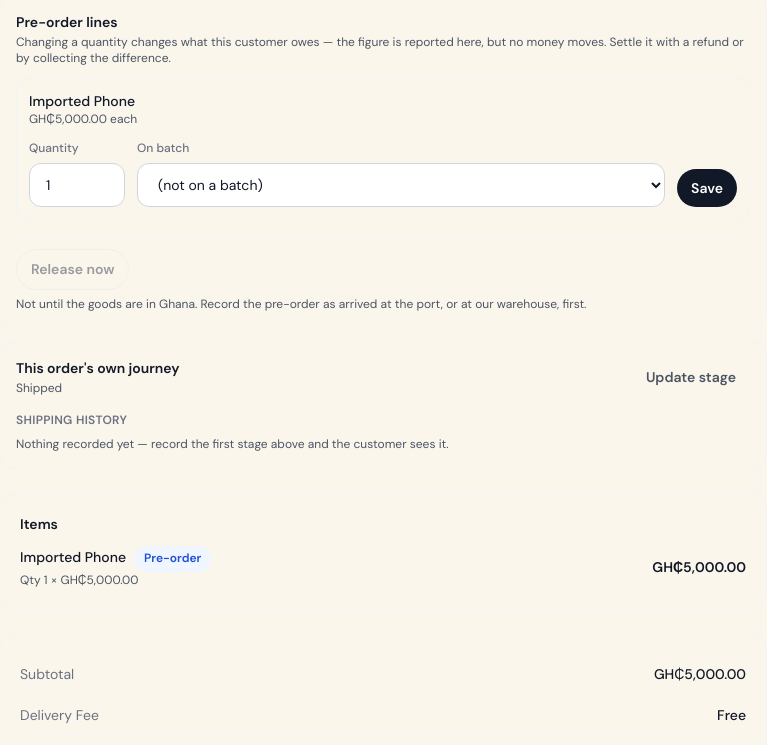
Test case: Staff order detail — the last stage releases (T45) › warns before the stage that releases
(page scrolled)
Click the button "Update stage" at x=691, y=377, box [632, 358, 750, 396]
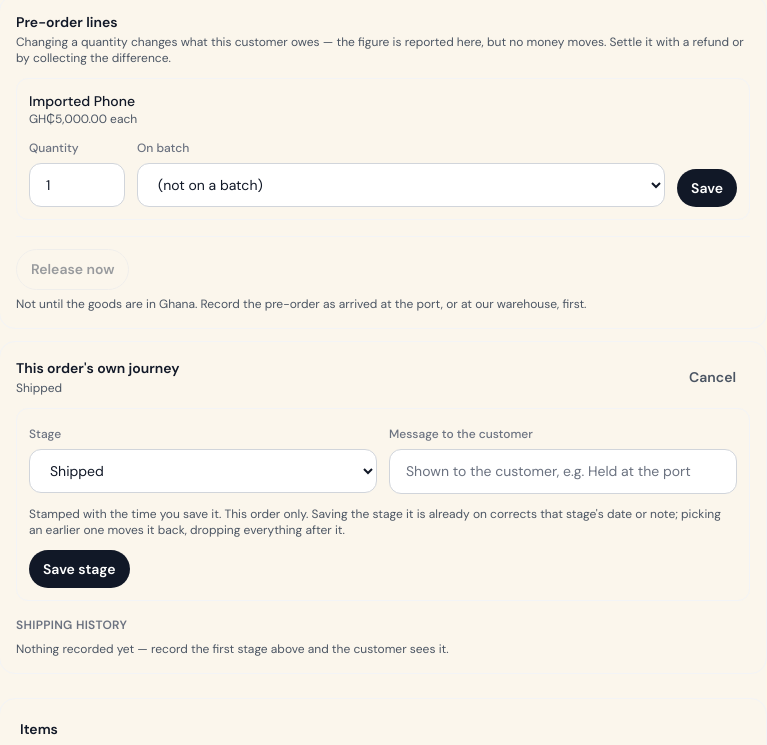
Expected: the text "Saving this releases the order" is not shown
Select "Arrived at our warehouse" in the dropdown labelled "Stage" at x=203, y=471, box [29, 449, 377, 493]
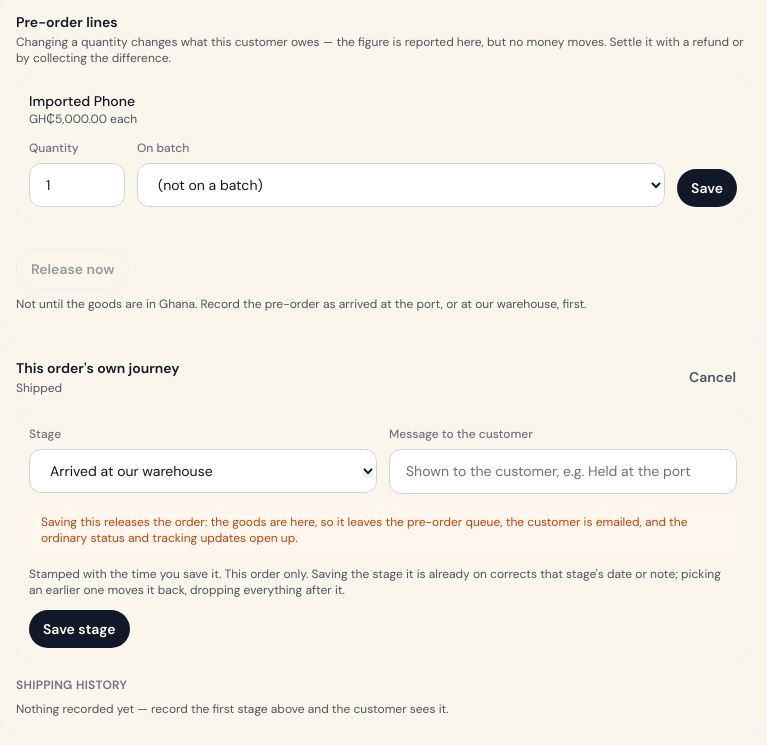
Expected: the text "Saving this releases the order" is shown, [41, 514, 688, 546]
